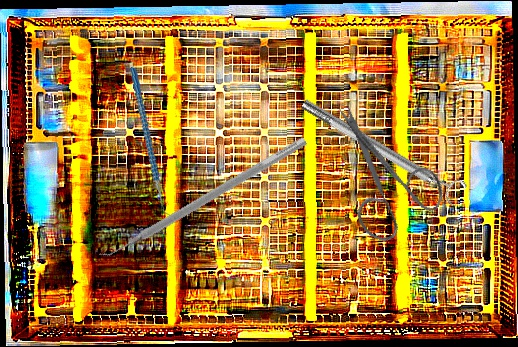Chopper: (112, 67, 193, 219)
Fixation Ring: (296, 89, 469, 210)
Iris Scissors: (299, 101, 462, 256)
Spatula Surgical: (95, 126, 308, 267)
